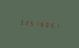five: (27, 18, 31, 27), (47, 20, 51, 29)
one: (32, 19, 36, 27), (52, 21, 56, 29)
six: (37, 19, 41, 28)
three: (17, 18, 21, 26)
two: (22, 18, 26, 26)
zero: (42, 20, 46, 28)
